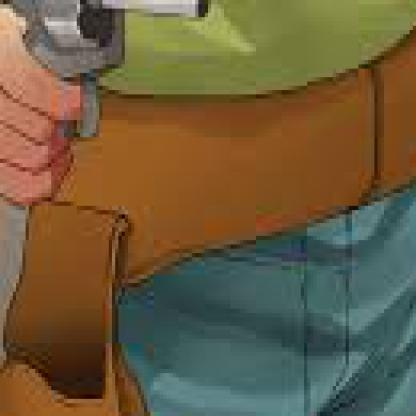gun: (0, 0, 237, 163)
